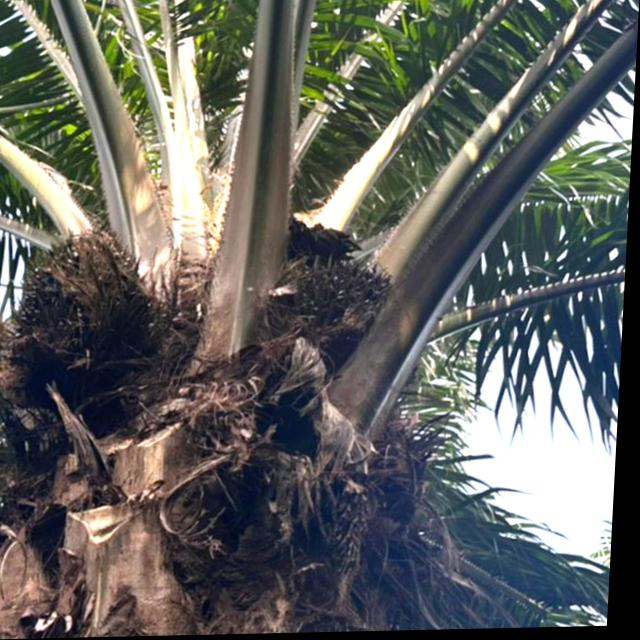ripe: (264, 244, 411, 359)
